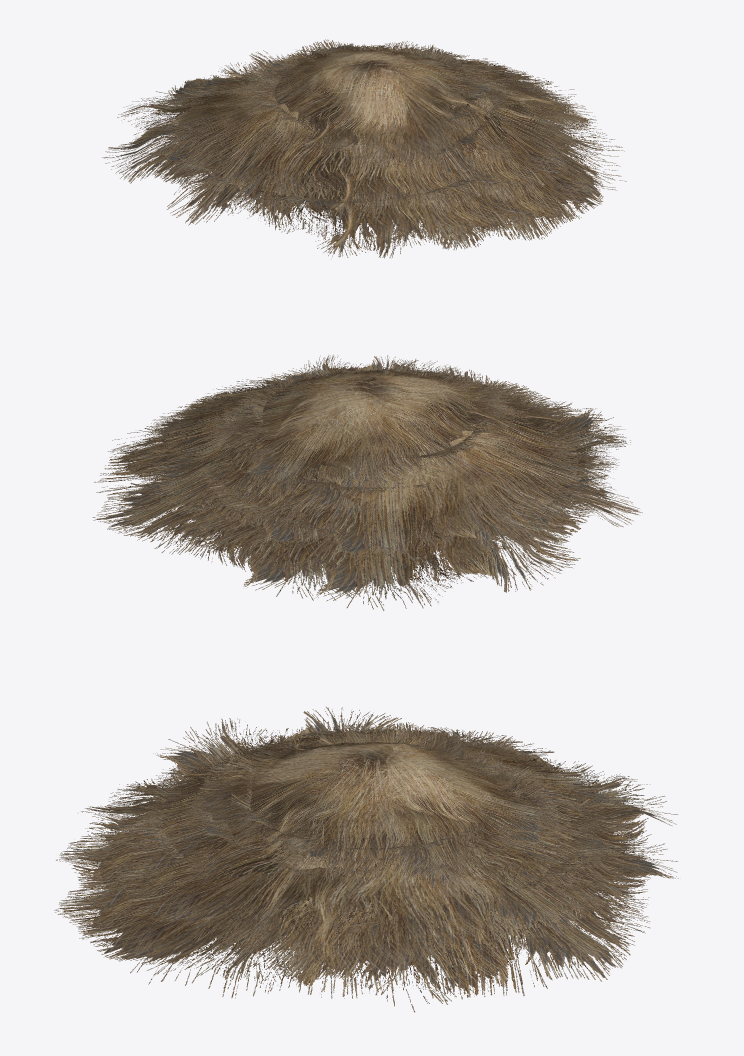
Rendered from Hay.gltf.
3 views of the same model, one above another, from view 1: azimuth 30°, elevation 25°; view 2: azimuth 150°, elevation 25°; view 3: azimuth 270°, elevation 25° (orthographic). The views are drawn at different scales.
Parts seen in each view (by area): view 1: StrawLayer.005, StrawLayer.007, StrawLayer.004, StrawLayer.001, StrawLayer, StrawLayer.002, StrawLayer.006, StrawLayer.010, StrawLayer.009, StrawLayer.003, StrawLayer.008; view 2: StrawLayer.005, StrawLayer.007, StrawLayer.004, StrawLayer, StrawLayer.001, StrawLayer.002, StrawLayer.010, StrawLayer.006, StrawLayer.003, StrawLayer.009, StrawLayer.008; view 3: StrawLayer.007, StrawLayer.001, StrawLayer, StrawLayer.002, StrawLayer.005, StrawLayer.004, StrawLayer.010, StrawLayer.003, StrawLayer.009, StrawLayer.008.
Part boxes in pixels (<box>): StrawLayer.005: <box>143,69,504,221</box>; StrawLayer.007: <box>246,41,498,163</box>; StrawLayer.004: <box>102,78,537,258</box>; StrawLayer.001: <box>398,47,587,211</box>; StrawLayer: <box>230,57,626,249</box>; StrawLayer.002: <box>239,57,591,182</box>; StrawLayer.006: <box>155,94,392,208</box>; StrawLayer.010: <box>165,39,505,209</box>; StrawLayer.009: <box>253,43,498,135</box>; StrawLayer.003: <box>259,53,504,169</box>; StrawLayer.008: <box>233,46,510,159</box>; StrawLayer.005: <box>206,382,601,567</box>; StrawLayer.007: <box>222,366,524,490</box>; StrawLayer.004: <box>164,381,642,610</box>; StrawLayer: <box>92,373,506,600</box>; StrawLayer.001: <box>135,366,390,556</box>; StrawLayer.002: <box>140,380,513,522</box>; StrawLayer.010: <box>195,366,626,536</box>; StrawLayer.006: <box>280,421,610,553</box>; StrawLayer.003: <box>212,381,515,497</box>; StrawLayer.009: <box>239,354,496,462</box>; StrawLayer.008: <box>246,359,508,493</box>; StrawLayer.007: <box>194,737,563,877</box>; StrawLayer.001: <box>109,818,624,965</box>; StrawLayer: <box>54,827,678,1012</box>; StrawLayer.002: <box>155,780,587,981</box>; StrawLayer.005: <box>109,725,624,891</box>; StrawLayer.004: <box>56,727,677,956</box>; StrawLayer.010: <box>134,707,620,902</box>; StrawLayer.003: <box>194,773,562,890</box>; StrawLayer.009: <box>228,722,504,861</box>; StrawLayer.008: <box>180,747,549,880</box>.
Size of the model in its own units: 9.45 by 1.88 by 9.04.
Materials: 1 (1 with a texture image).
